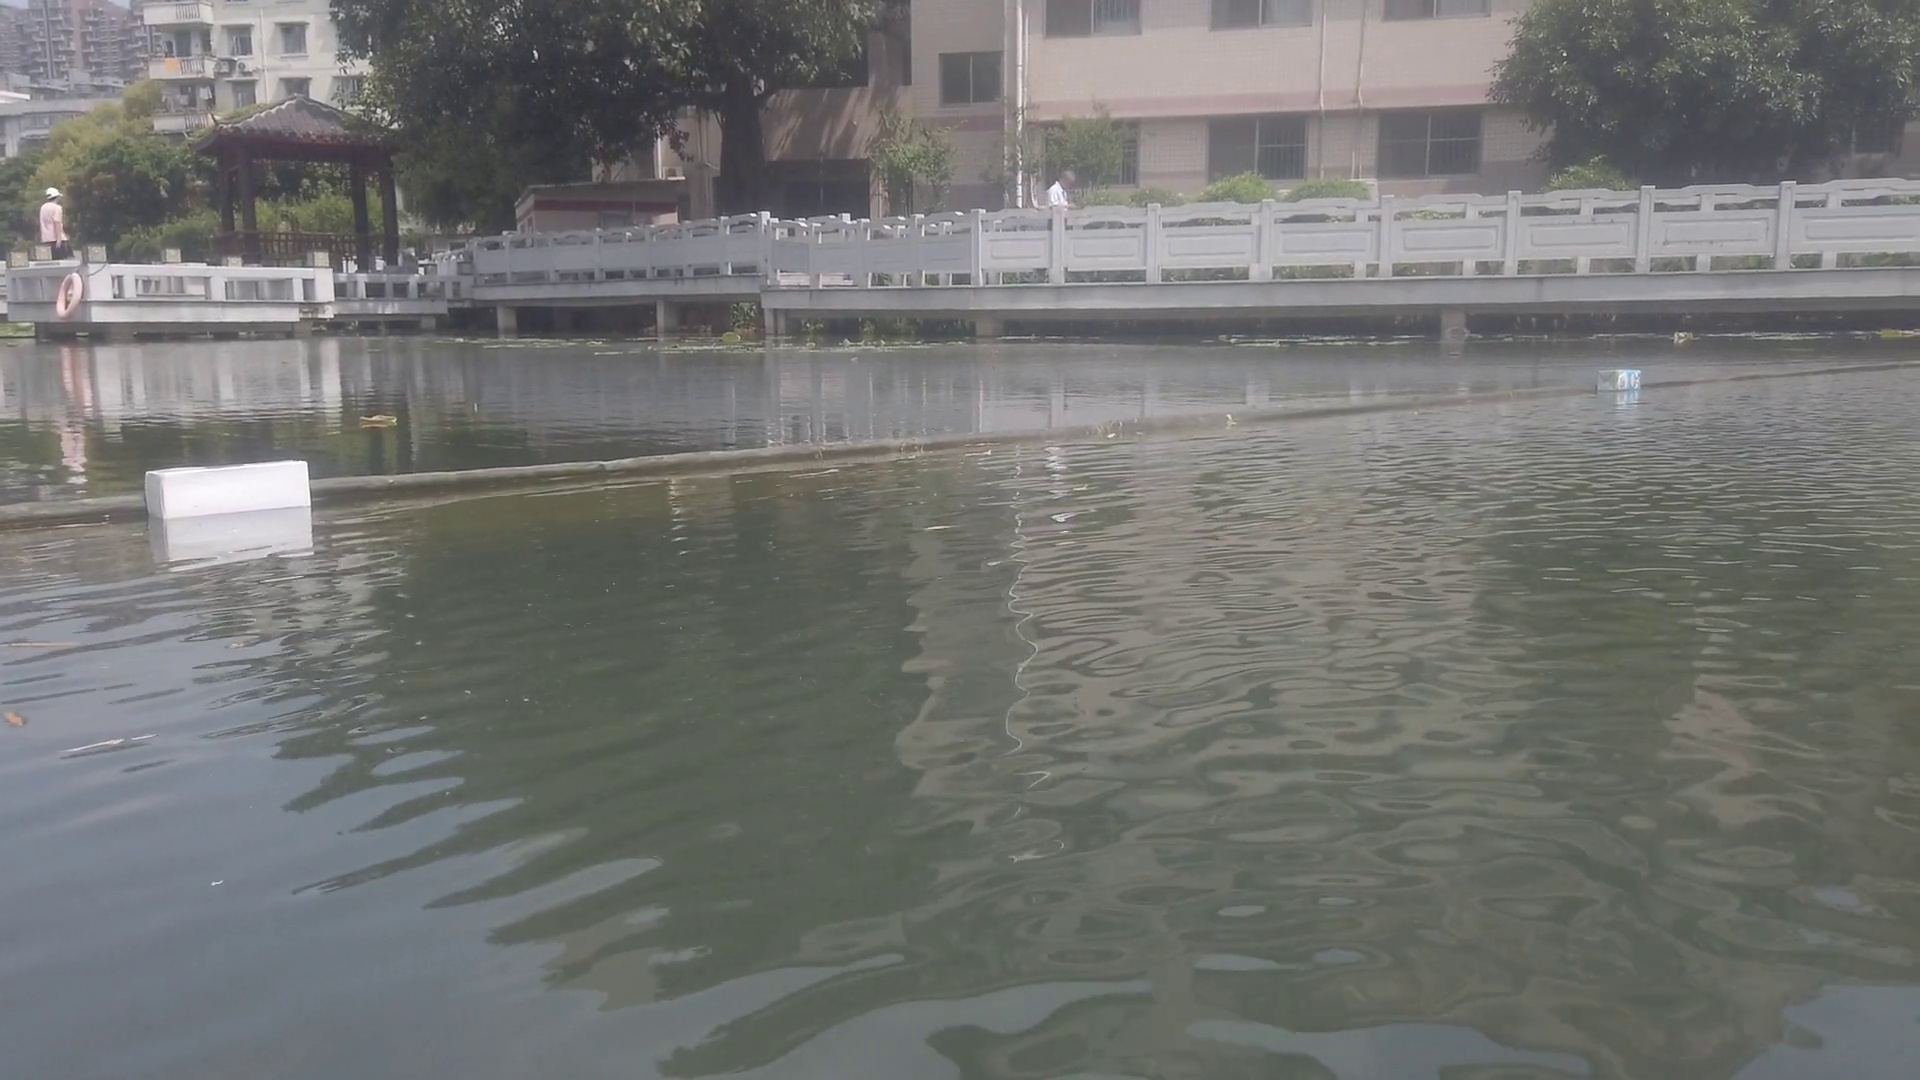carton: (142, 456, 318, 520), (1592, 369, 1644, 392)
